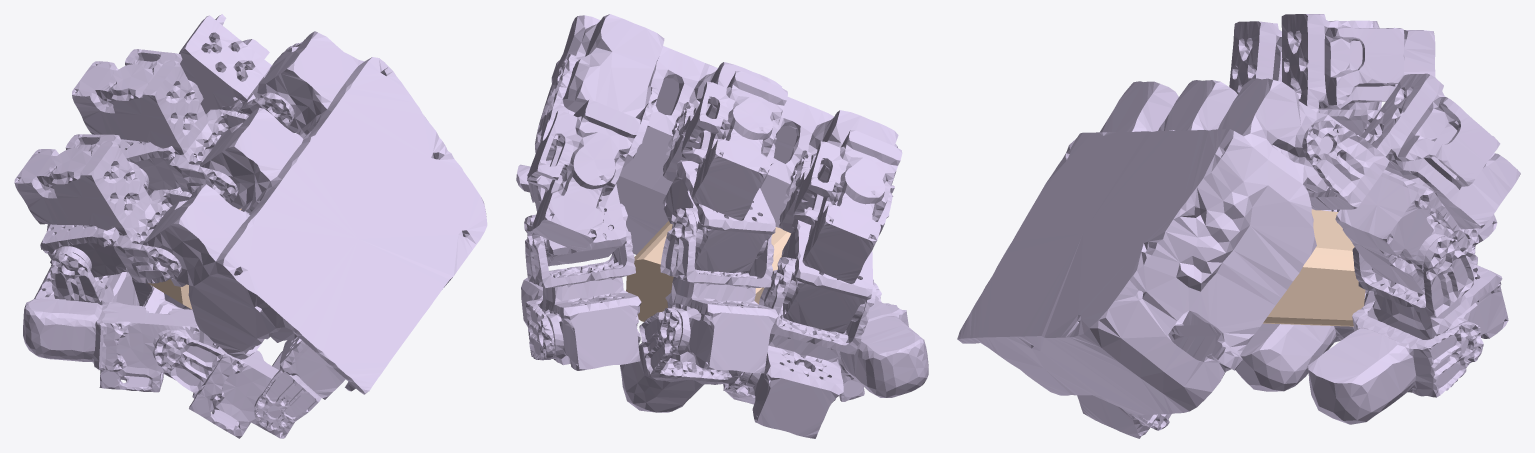
Rendered from c36671221f3866-closed.glb.
The picture shows the model from 3 angles, left to right: view 1: azimuth 30°, elevation 25°; view 2: azimuth 150°, elevation 25°; view 3: azimuth 270°, elevation 25°; orthographic projection. The views are drawn at different scales.
Parts seen in each view (by area): view 1: LEAP_hand, world; view 2: LEAP_hand, world; view 3: LEAP_hand, world.
Part boxes in pixels (left/top/right/bottom): LEAP_hand: left=14, top=14, right=487, bottom=438; world: left=148, top=208, right=241, bottom=309; LEAP_hand: left=516, top=14, right=928, bottom=438; world: left=626, top=221, right=790, bottom=321; LEAP_hand: left=957, top=14, right=1520, bottom=438; world: left=1263, top=209, right=1365, bottom=326.
Size of the model in its own units: 0.1788 by 0.1461 by 0.1822.
